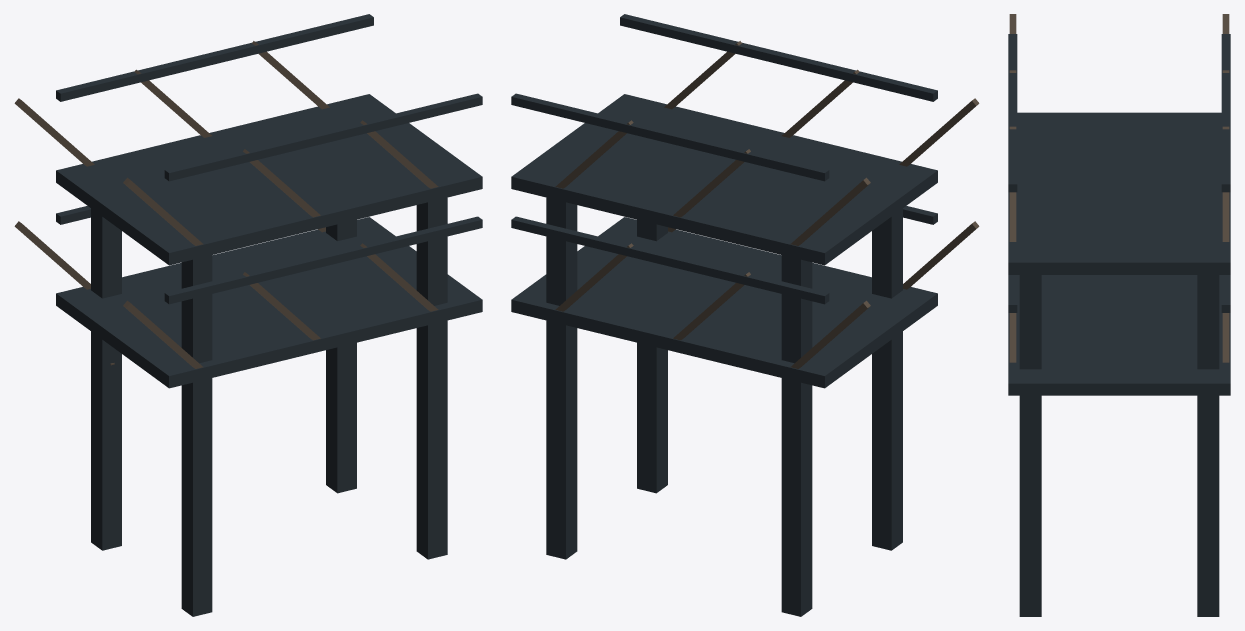
The model's file is scaffold-1.glb.
3 views of the same model, side by side, from view 1: azimuth 30°, elevation 25°; view 2: azimuth 150°, elevation 25°; view 3: azimuth 270°, elevation 25° (orthographic).
Parts seen in each view (by area): view 1: scaffold/0/KR-230-1; view 2: scaffold/0/KR-230-1; view 3: scaffold/0/KR-230-1.
Part boxes in pixels (x1,y1,x2,y2): scaffold/0/KR-230-1: (14,14,482,616); scaffold/0/KR-230-1: (511,14,979,616); scaffold/0/KR-230-1: (1008,14,1230,616).
Size of the model in its own units: 9.08 by 11.15 by 5.
